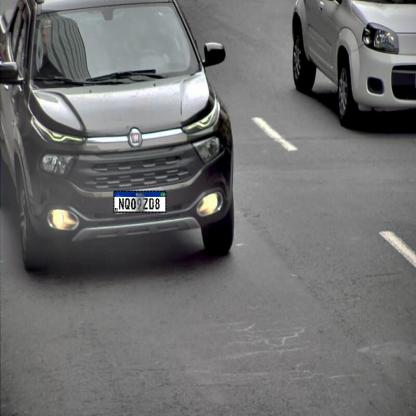PlacaM: (114, 191, 166, 213)
